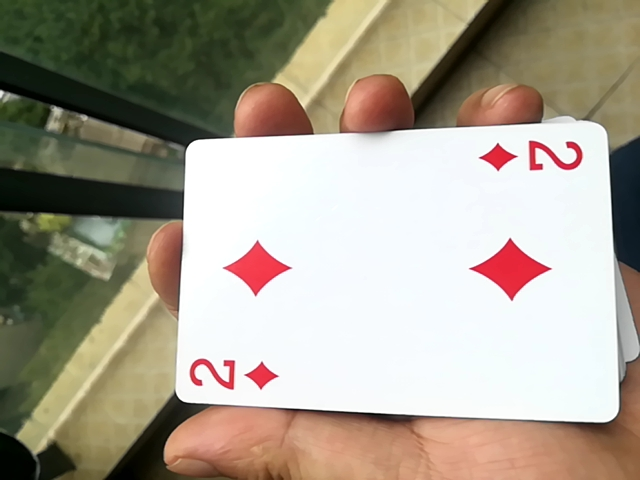fk 2: (169, 125, 619, 432)
